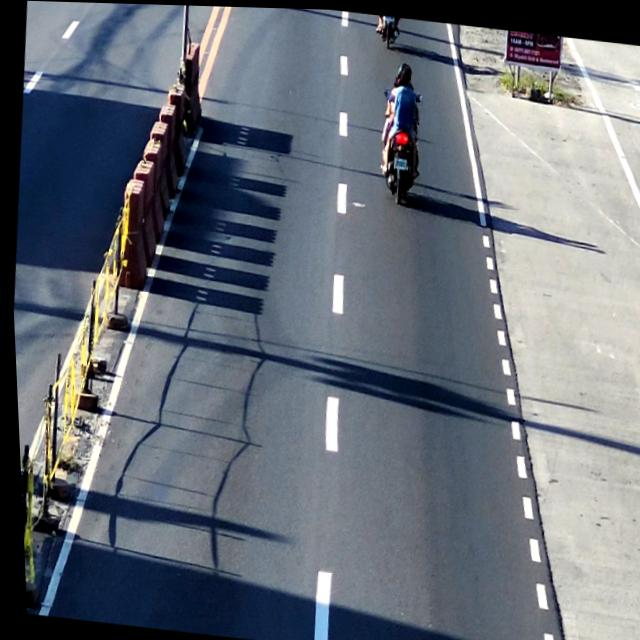License-Plate: (389, 154, 409, 169)
Motorcycle: (374, 62, 427, 205)
